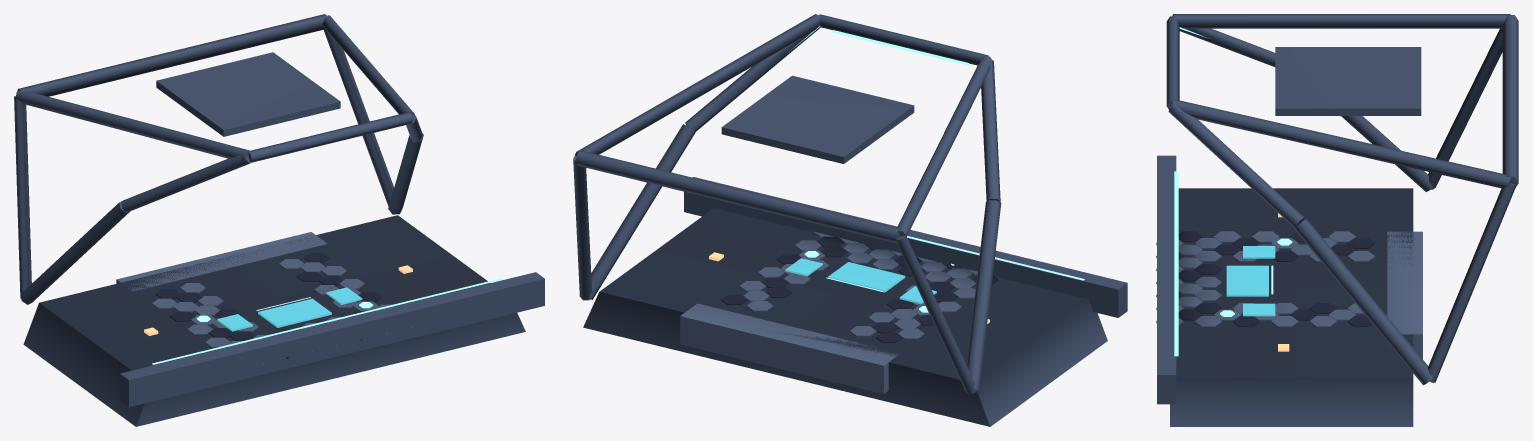
Rendered from cockpit.glb.
3 views of the same model, side by side, from view 1: azimuth 30°, elevation 25°; view 2: azimuth 150°, elevation 25°; view 3: azimuth 270°, elevation 25° (orthographic). The views are drawn at different scales.
Parts seen in each view (by area): view 1: cockpit; view 2: cockpit; view 3: cockpit.
Part boxes in pixels (x1,y1,x2,y2): cockpit: (14,14,544,426); cockpit: (573,14,1127,426); cockpit: (1156,14,1518,426).
Bounding box in the file's own units: 3.2 × 1.81 × 2.24.
